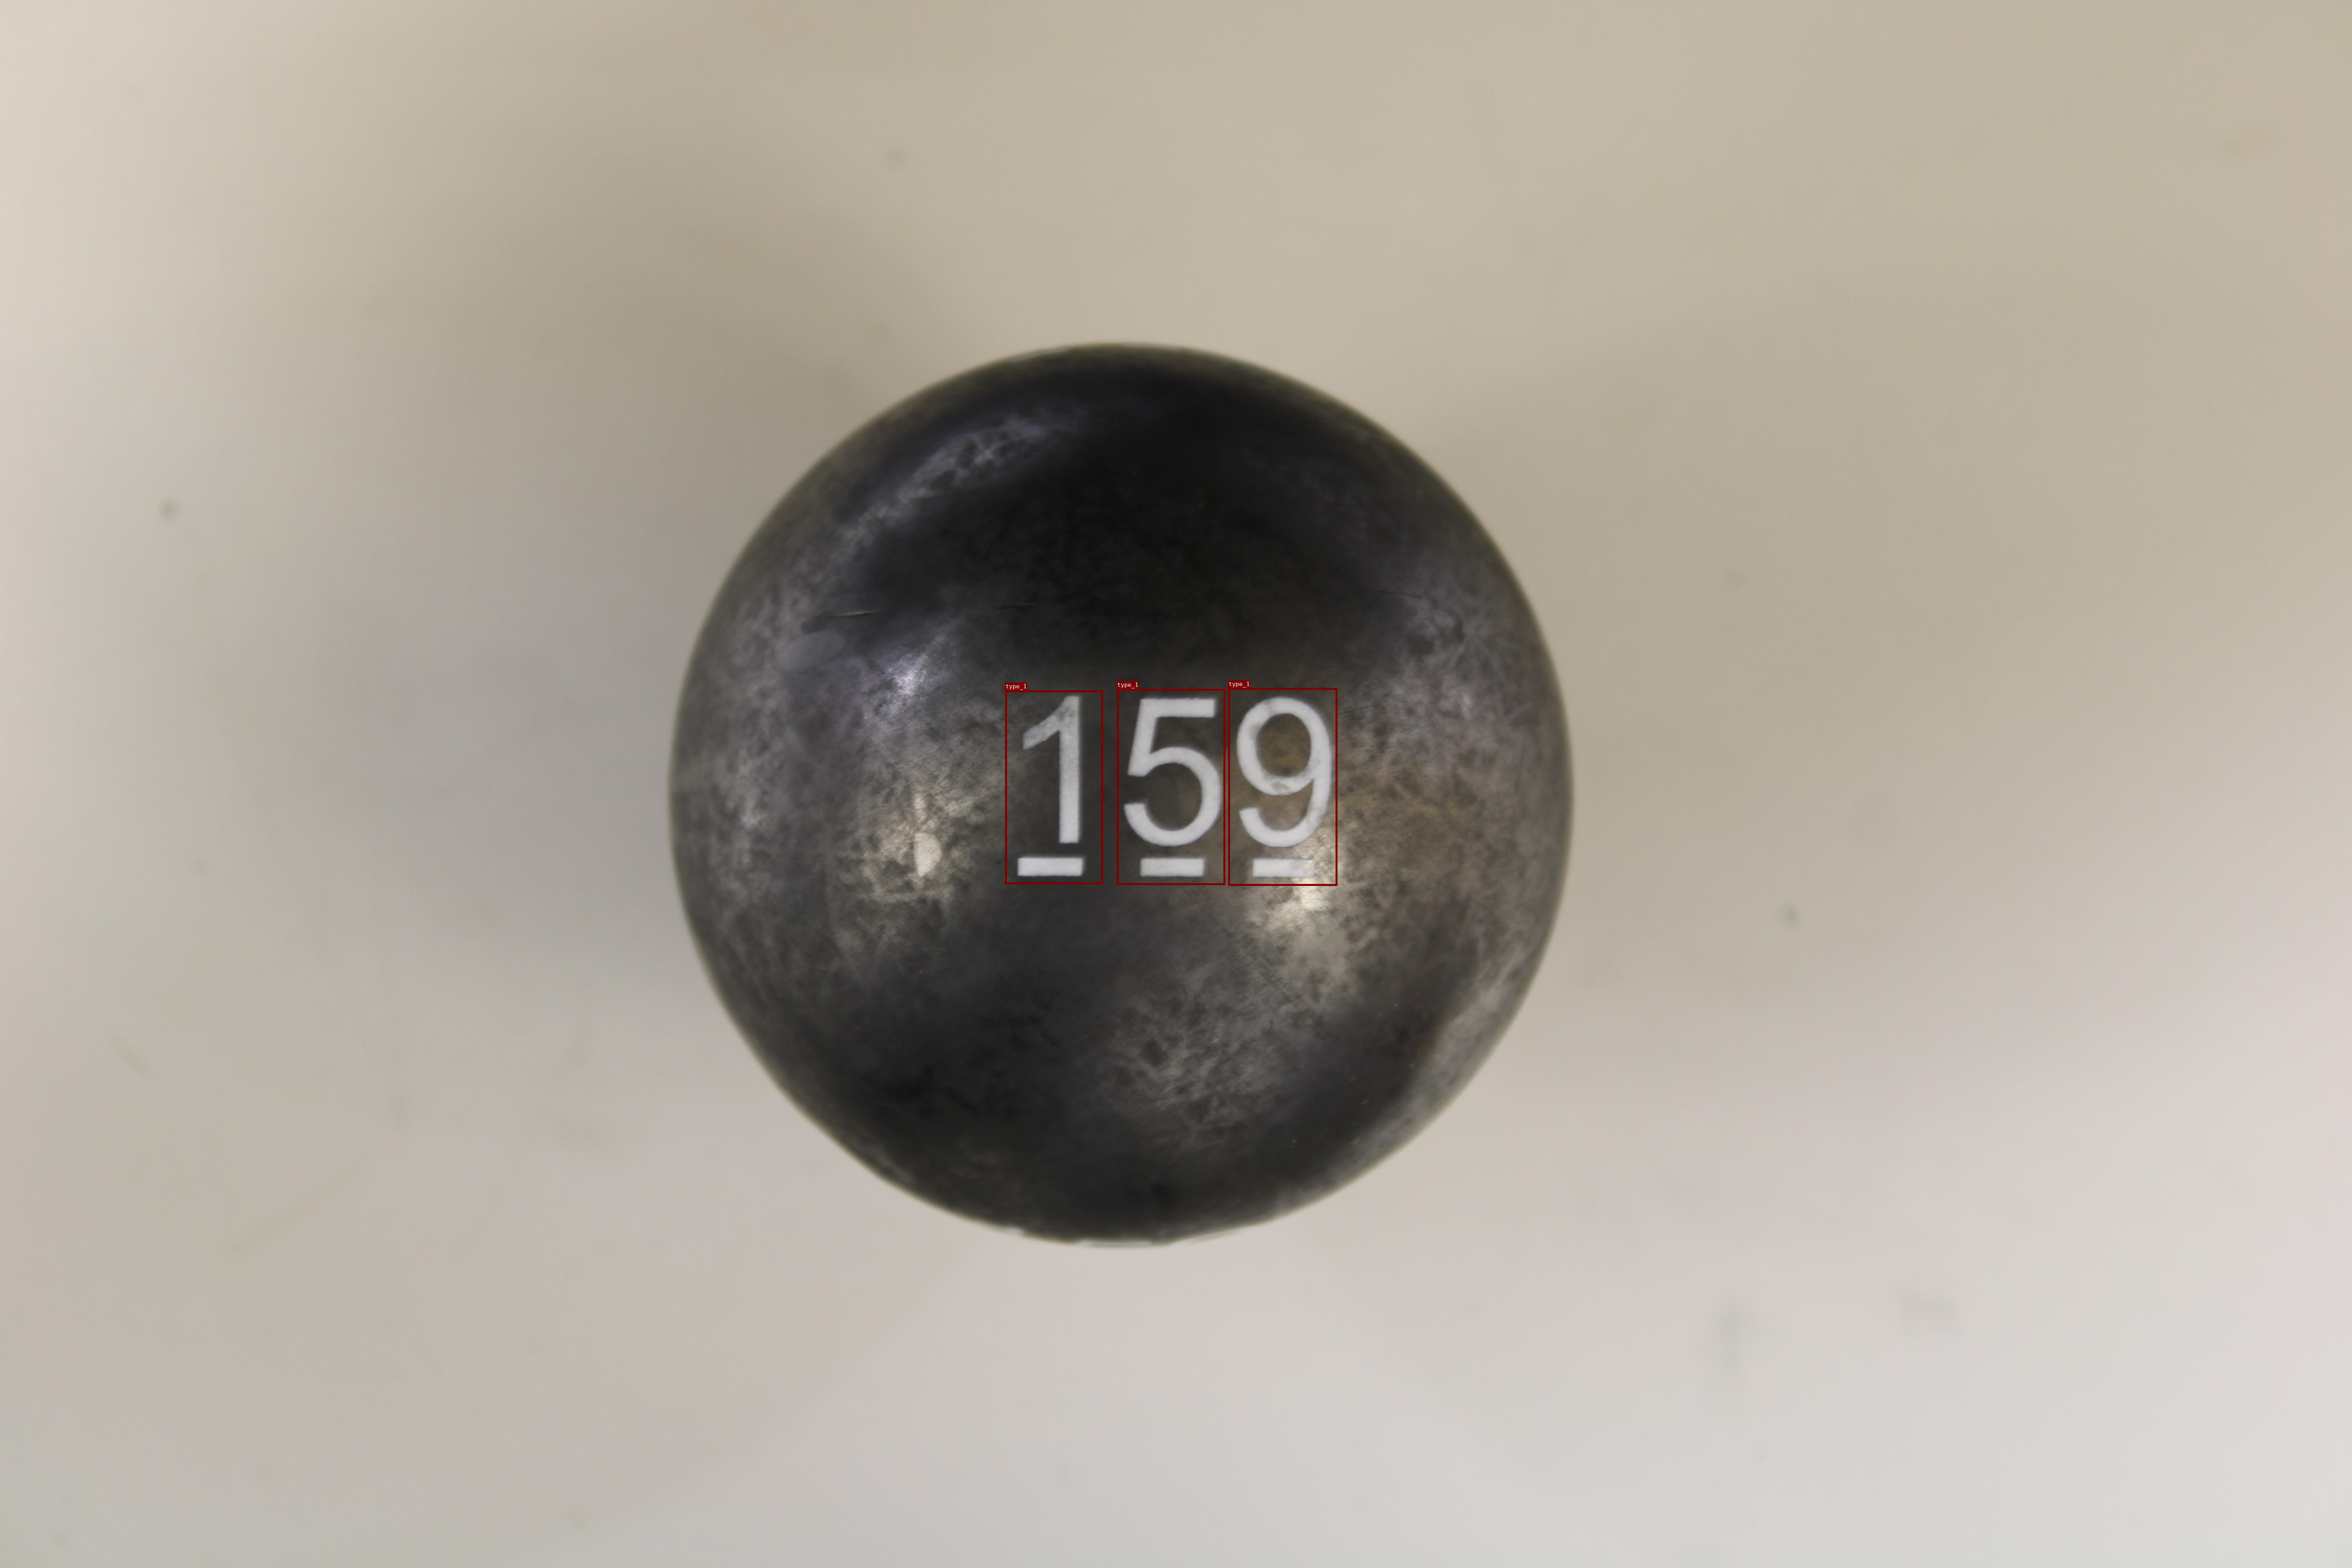type_1: (1228, 688, 1337, 886), (1116, 690, 1225, 886), (1004, 690, 1102, 884)
